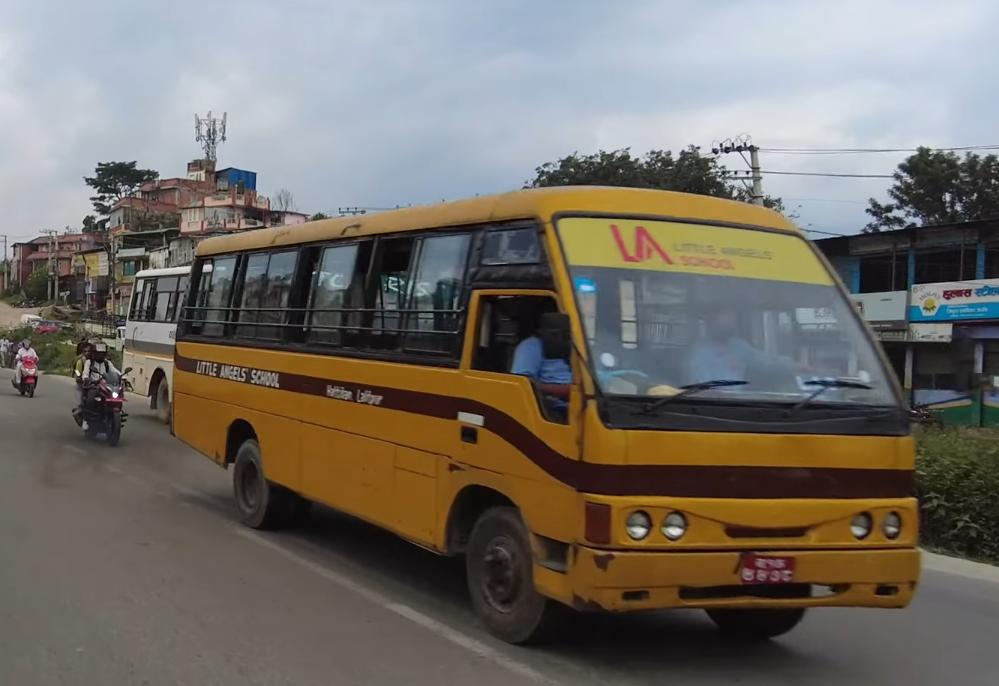bike: (74, 366, 137, 442)
school_bus: (163, 177, 928, 668)
scooter: (12, 352, 45, 403)
